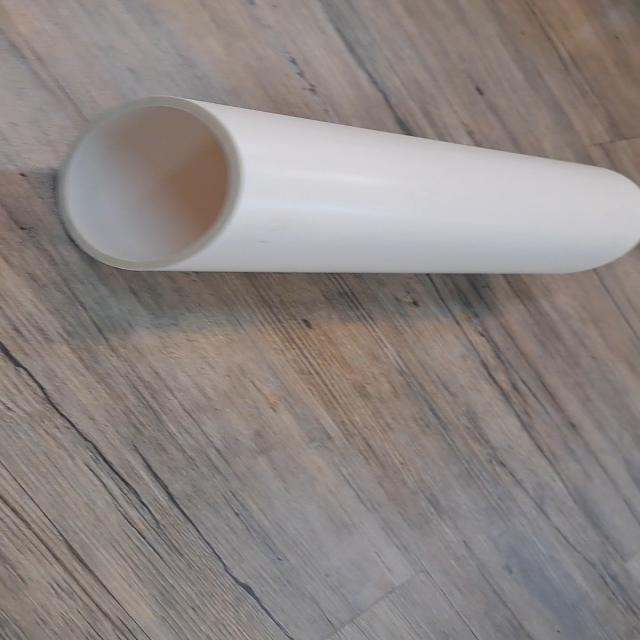CORAL: (50, 90, 640, 294)
